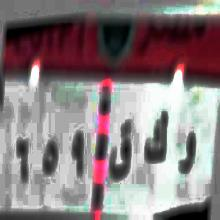5: (41, 139, 59, 189)
6: (13, 128, 30, 194)
9: (70, 124, 88, 190)
kaaf: (142, 96, 171, 180)
qaaf: (108, 113, 133, 191)
waw: (176, 121, 198, 187)
